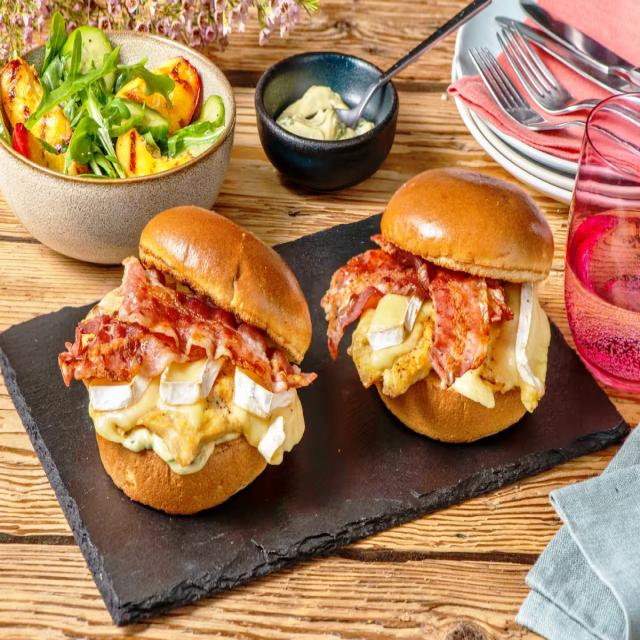burger: (62, 204, 316, 516), (323, 164, 555, 443)
drink: (564, 96, 640, 385)
